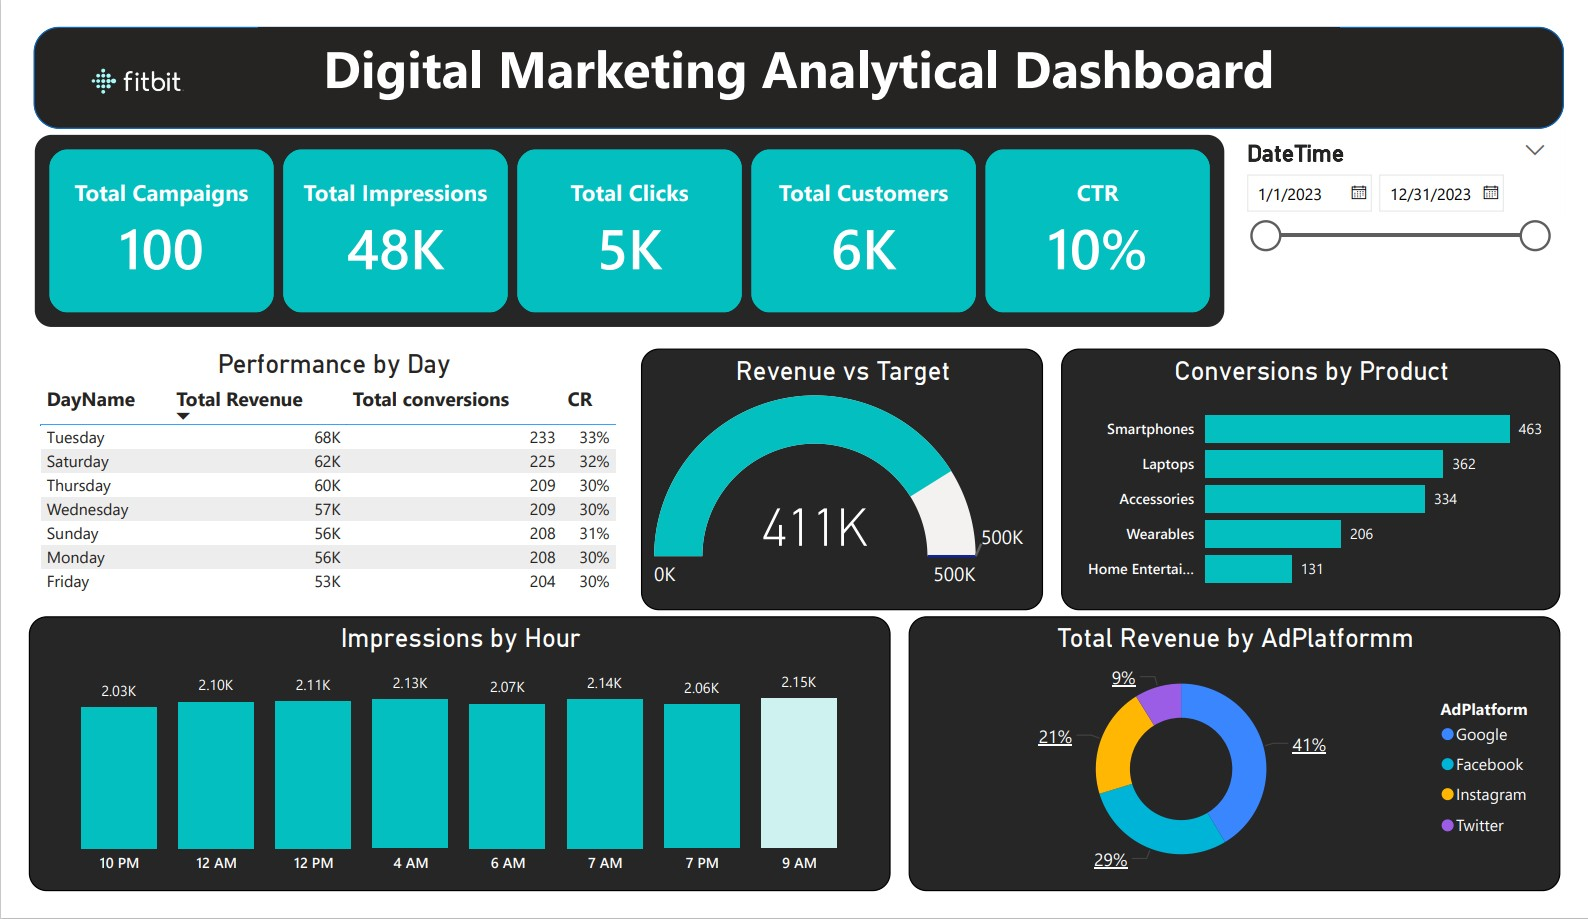

The dashboard page shown, as its layout file describes it:
{"tool":"powerbi","page":{"name":"Page 2","canvas":[1280,720],"ordinal":0},"visuals":[{"type":"columnChart","title":"Impressions by Hour","fields":{"Y":["FitBitDataMarketing(power bi 3).Total Impressions"],"Category":["FitBitDataMarketing(power bi 3).Hour12Formatted","FitBitDataMarketing(power bi 3).AM_PM"]},"box":[0,491.3,718.1,228.7],"z":0},{"type":"cardVisual","fields":{"Data":["FitBitDataMarketing(power bi 3).Total Campaigns","FitBitDataMarketing(power bi 3).Total Impressions","FitBitDataMarketing(power bi 3).Total Clicks","FitBitDataMarketing(power bi 3).Total Customers","FitBitDataMarketing(power bi 3).CTR"]},"box":[0,85,1001.6,170.1],"z":1000},{"type":"gauge","title":"Revenue vs Target","fields":{"Y":["FitBitDataMarketing(power bi 3).Total Revenue"],"TargetValue":["FitBitDataMarketing(power bi 3).Revenue Target"],"MinValue":["FitBitDataMarketing(power bi 3).Min Revenue"],"MaxValue":["FitBitDataMarketing(power bi 3).Max Revenue"]},"box":[510.2,268.3,334.5,217.3],"z":2000},{"type":"barChart","title":"Conversions by Product","fields":{"Category":["FitBitDataMarketing(power bi 3).ProductCategory"],"Y":["FitBitDataMarketing(power bi 3).Total conversions"]},"box":[859.8,268.3,415.8,217.3],"z":3000},{"type":"tableEx","title":"Performance by Day","fields":{"Values":["FitBitDataMarketing(power bi 3).DayName","FitBitDataMarketing(power bi 3).Total Revenue","FitBitDataMarketing(power bi 3).Total conversions","FitBitDataMarketing(power bi 3).CR"]},"box":[3.8,268.3,500.8,211.7],"z":4000},{"type":"donutChart","title":"Total Revenue by AdPlatformm","fields":{"Y":["FitBitDataMarketing(power bi 3).Total Revenue"],"Category":["FitBitDataMarketing(power bi 3).AdPlatform"]},"box":[728.3,490.6,546.6,230.2],"z":5000},{"type":"slicer","fields":{"Values":["FitBitDataMarketing(power bi 3).DateTime"]},"box":[1001.6,88.8,274,170.1],"z":6000},{"type":"shape","box":[3.8,0,1275.6,85],"z":7000},{"type":"textbox","box":[190.9,0,901.4,68],"z":8000},{"type":"image","box":[0,0,207.9,120.9],"z":9000}]}

Visuals, with their boxes in screenshot pixels (x1, y1, x2, y2), scaled from the page's 1280x720 canvas onto the 1588x919 screenshot:
"Impressions by Hour" columnChart: 0, 627, 891, 918
cardVisual - FitBitDataMarketing(power bi 3).Total Campaigns x FitBitDataMarketing(power bi 3).Total Impressions: 0, 108, 1243, 326
"Revenue vs Target" gauge: 633, 342, 1048, 620
"Conversions by Product" barChart: 1067, 342, 1583, 620
"Performance by Day" tableEx: 5, 342, 626, 613
"Total Revenue by AdPlatformm" donutChart: 904, 626, 1582, 918
slicer - FitBitDataMarketing(power bi 3).DateTime: 1243, 113, 1583, 330
shape: 5, 0, 1587, 108
textbox: 237, 0, 1355, 87
image: 0, 0, 258, 154
